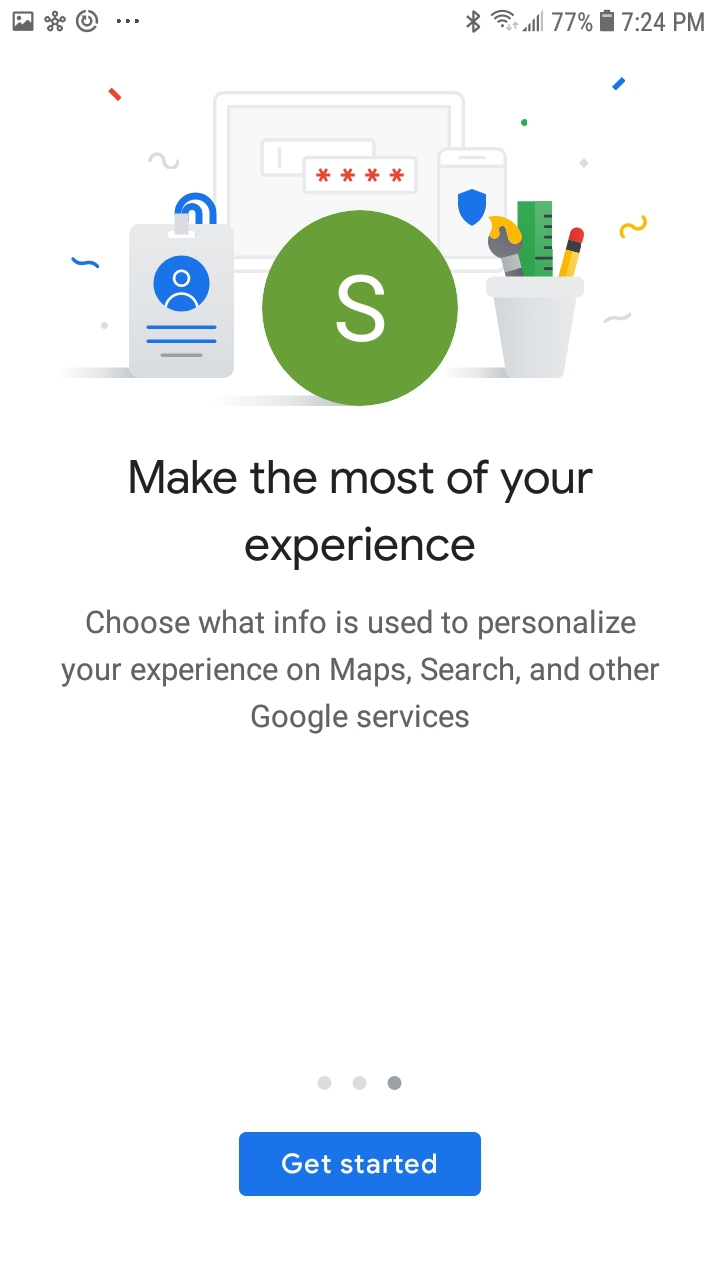Image: (71, 77, 648, 408)
PageIndicator: (317, 1075, 403, 1091)
Text: (61, 608, 660, 735), (130, 460, 594, 505), (245, 526, 476, 571)
TextButton: (239, 1132, 482, 1197)
UpperTaskBar: (2, 1, 720, 35)
